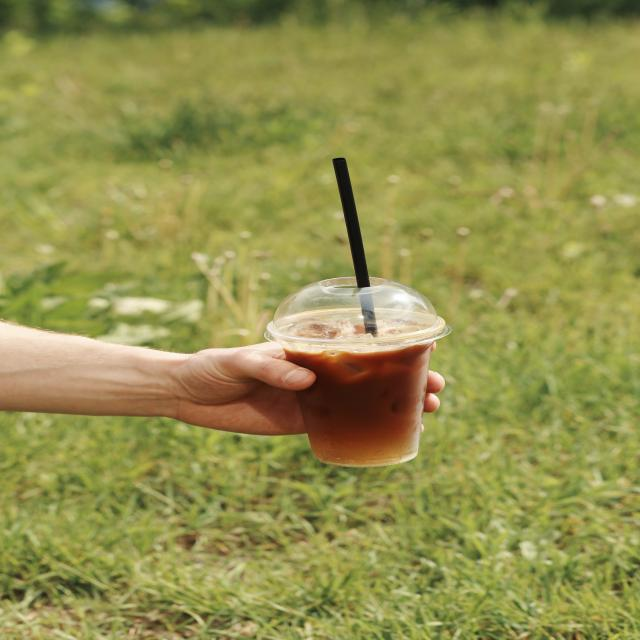cup: (270, 277, 451, 468)
